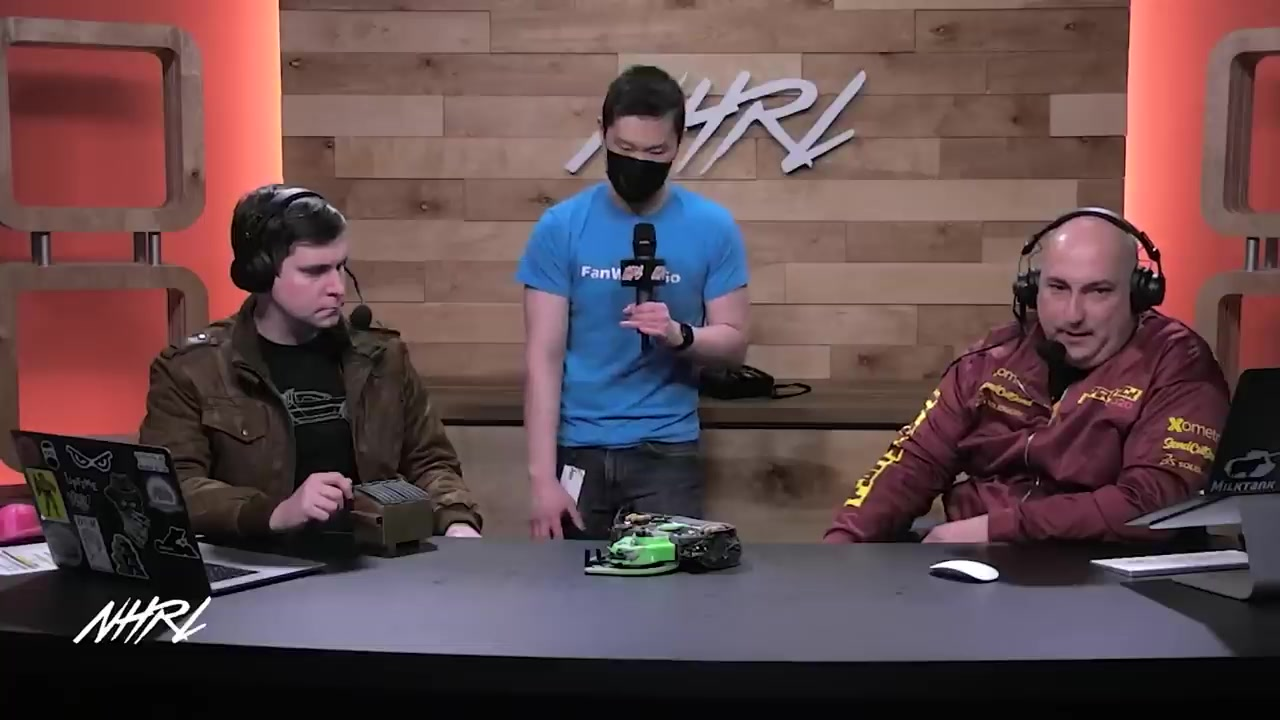combatbot: (583, 510, 741, 580)
